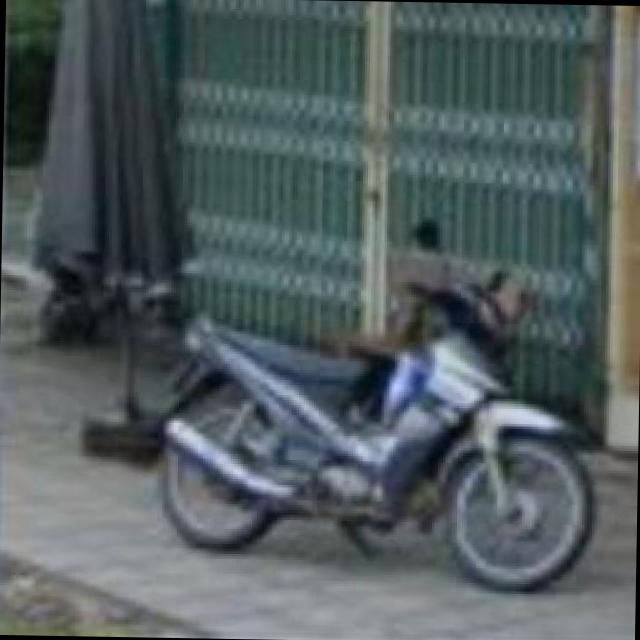bike: (146, 210, 602, 596)
